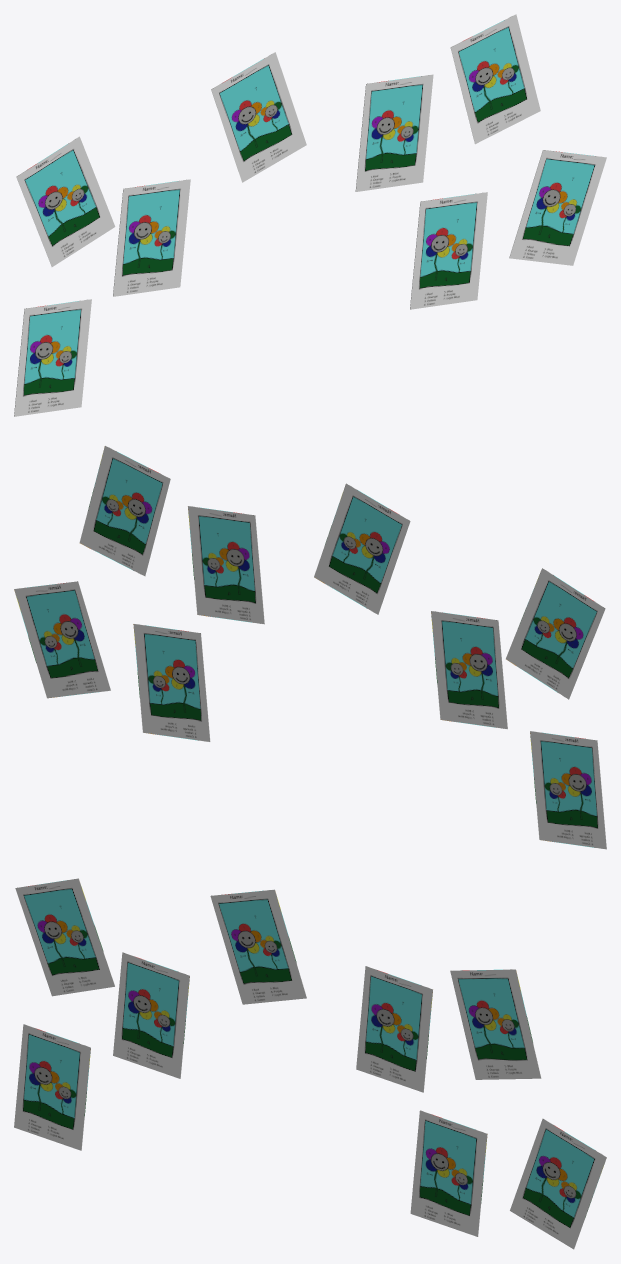
File: Papers_Scaled.fbx
3 views of the same model, one above another, from view 1: azimuth 30°, elevation 25°; view 2: azimuth 150°, elevation 25°; view 3: azimuth 330°, elevation 25° (orthographic).
Visible parts, largest first — view 1: ExtraPaper20, ExtraPaper17, ExtraPaper23, ExtraPaper18, ExtraPaper19, ExtraPaper21, ExtraPaper24, ExtraPaper22; view 2: ExtraPaper23, ExtraPaper17, ExtraPaper21, ExtraPaper19, ExtraPaper20, ExtraPaper24, ExtraPaper18, ExtraPaper22; view 3: ExtraPaper21, ExtraPaper24, ExtraPaper18, ExtraPaper22, ExtraPaper23, ExtraPaper17, ExtraPaper20, ExtraPaper19.
Boxes of the visible parts, box(x1,y1,x2,y2) form: ExtraPaper20: box(355, 74, 433, 191); ExtraPaper17: box(113, 179, 190, 296); ExtraPaper23: box(410, 192, 487, 309); ExtraPaper18: box(211, 52, 306, 182); ExtraPaper19: box(509, 150, 606, 265); ExtraPaper21: box(14, 299, 91, 416); ExtraPaper24: box(450, 14, 540, 144); ExtraPaper22: box(16, 136, 115, 266); ExtraPaper23: box(133, 623, 210, 742); ExtraPaper17: box(431, 611, 507, 729); ExtraPaper21: box(530, 731, 606, 849); ExtraPaper19: box(14, 581, 110, 698); ExtraPaper20: box(188, 506, 264, 624); ExtraPaper24: box(79, 445, 170, 576); ExtraPaper18: box(314, 483, 410, 614); ExtraPaper22: box(506, 568, 605, 699); ExtraPaper21: box(14, 1024, 90, 1150); ExtraPaper24: box(450, 969, 541, 1079); ExtraPaper18: box(210, 889, 306, 1004); ExtraPaper22: box(15, 878, 115, 996); ExtraPaper23: box(410, 1110, 487, 1236); ExtraPaper17: box(113, 952, 189, 1078); ExtraPaper20: box(356, 966, 432, 1092); ExtraPaper19: box(510, 1118, 606, 1249).
Bounding box in the file's own units: 6.45 × 3.21 × 0.0165.
Materials: 1 (1 with a texture image).
